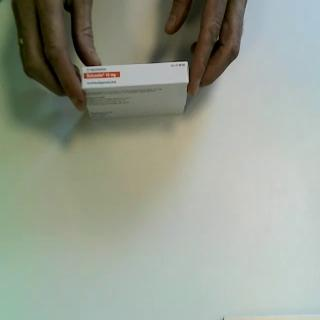dolcontin10mg: (82, 61, 191, 122)
